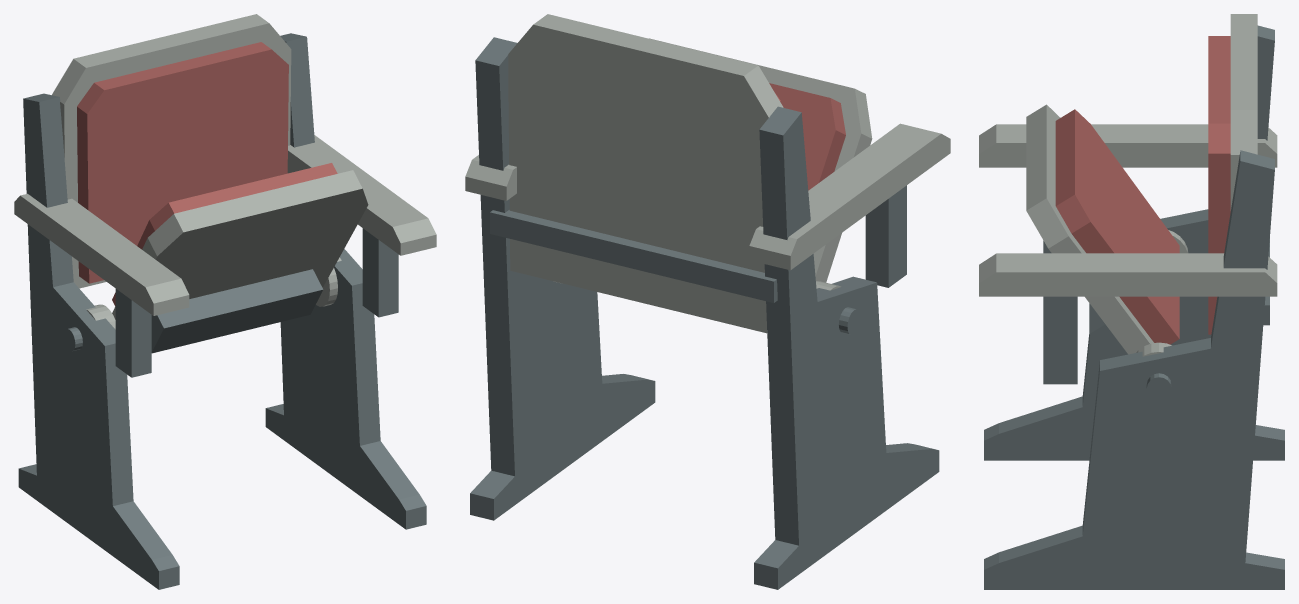
3 renders of one model, left to right at view 1: azimuth 30°, elevation 25°; view 2: azimuth 150°, elevation 25°; view 3: azimuth 270°, elevation 25°, orthographic. The views are drawn at different scales.
Visible parts, largest first — view 1: WholeFloorStandard_-1, WholeBackCushion, WholeFloorStandard_1, WholeRaisedSeatPan, WholeSeparateBackShell, WholeArmrest_-1, WholeSeatUndersideCounterbalance, WholeArmrest_1, WholeRaisedSeatCushion, WholeArmSupport_1, WholeArmSupport_-1; view 2: WholeSeparateBackShell, WholeFloorStandard_-1, WholeFloorStandard_1, WholeArmrest_-1, WholeRearBackCrossTie, WholeRaisedSeatPan, WholeRaisedSeatCushion, WholeArmSupport_-1, WholeArmrest_1; view 3: WholeFloorStandard_1, WholeRaisedSeatCushion, WholeArmrest_1, WholeFloorStandard_-1, WholeArmrest_-1, WholeRaisedSeatPan, WholeBackCushion, WholeSeparateBackShell, WholeArmSupport_1, WholeSeatUndersideCounterbalance, WholeSeatPivotAxle.
Part boxes in pixels (x1,y1,x2,y2): WholeFloorStandard_-1: (18,93,179,589); WholeBackCushion: (77,42,288,283); WholeFloorStandard_1: (265,33,426,529); WholeRaisedSeatPan: (112,170,368,319); WholeSeparateBackShell: (52,14,291,288); WholeArmrest_-1: (14,193,189,315); WholeSeatUndersideCounterbalance: (151,269,323,353); WholeArmrest_1: (287,135,436,255); WholeRaisedSeatCushion: (112,163,337,305); WholeArmSupport_1: (362,228,398,317); WholeArmSupport_-1: (115,289,151,377); WholeSeparateBackShell: (508,14,783,333); WholeFloorStandard_-1: (754,106,939,589); WholeFloorStandard_1: (470,37,655,520); WholeArmrest_-1: (749,123,950,270); WholeRearBackCrossTie: (490,210,777,302); WholeRaisedSeatPan: (649,38,872,282); WholeRaisedSeatCushion: (769,83,845,190); WholeArmSupport_-1: (865,185,906,287); WholeArmrest_1: (465,155,516,200); WholeFloorStandard_1: (984,150,1284,589); WholeRaisedSeatCushion: (1055,109,1179,344); WholeArmrest_1: (979,253,1277,296); WholeFloorStandard_-1: (984,25,1284,460); WholeArmrest_-1: (979,124,1277,167); WholeRaisedSeatPan: (1026,104,1153,354); WholeBackCushion: (1208,36,1230,334); WholeSeparateBackShell: (1230,14,1257,210); WholeArmSupport_1: (1043,296,1077,384); WholeSeatUndersideCounterbalance: (1089,303,1127,358); WholeSeatPivotAxle: (1146,344,1171,399).
Size of the model in its own units: 0.71 by 1.02 by 0.62.
